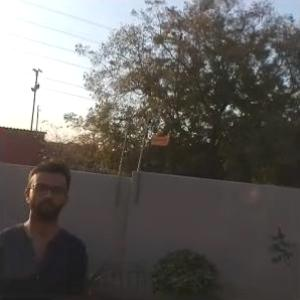follow: (0, 146, 93, 299)
